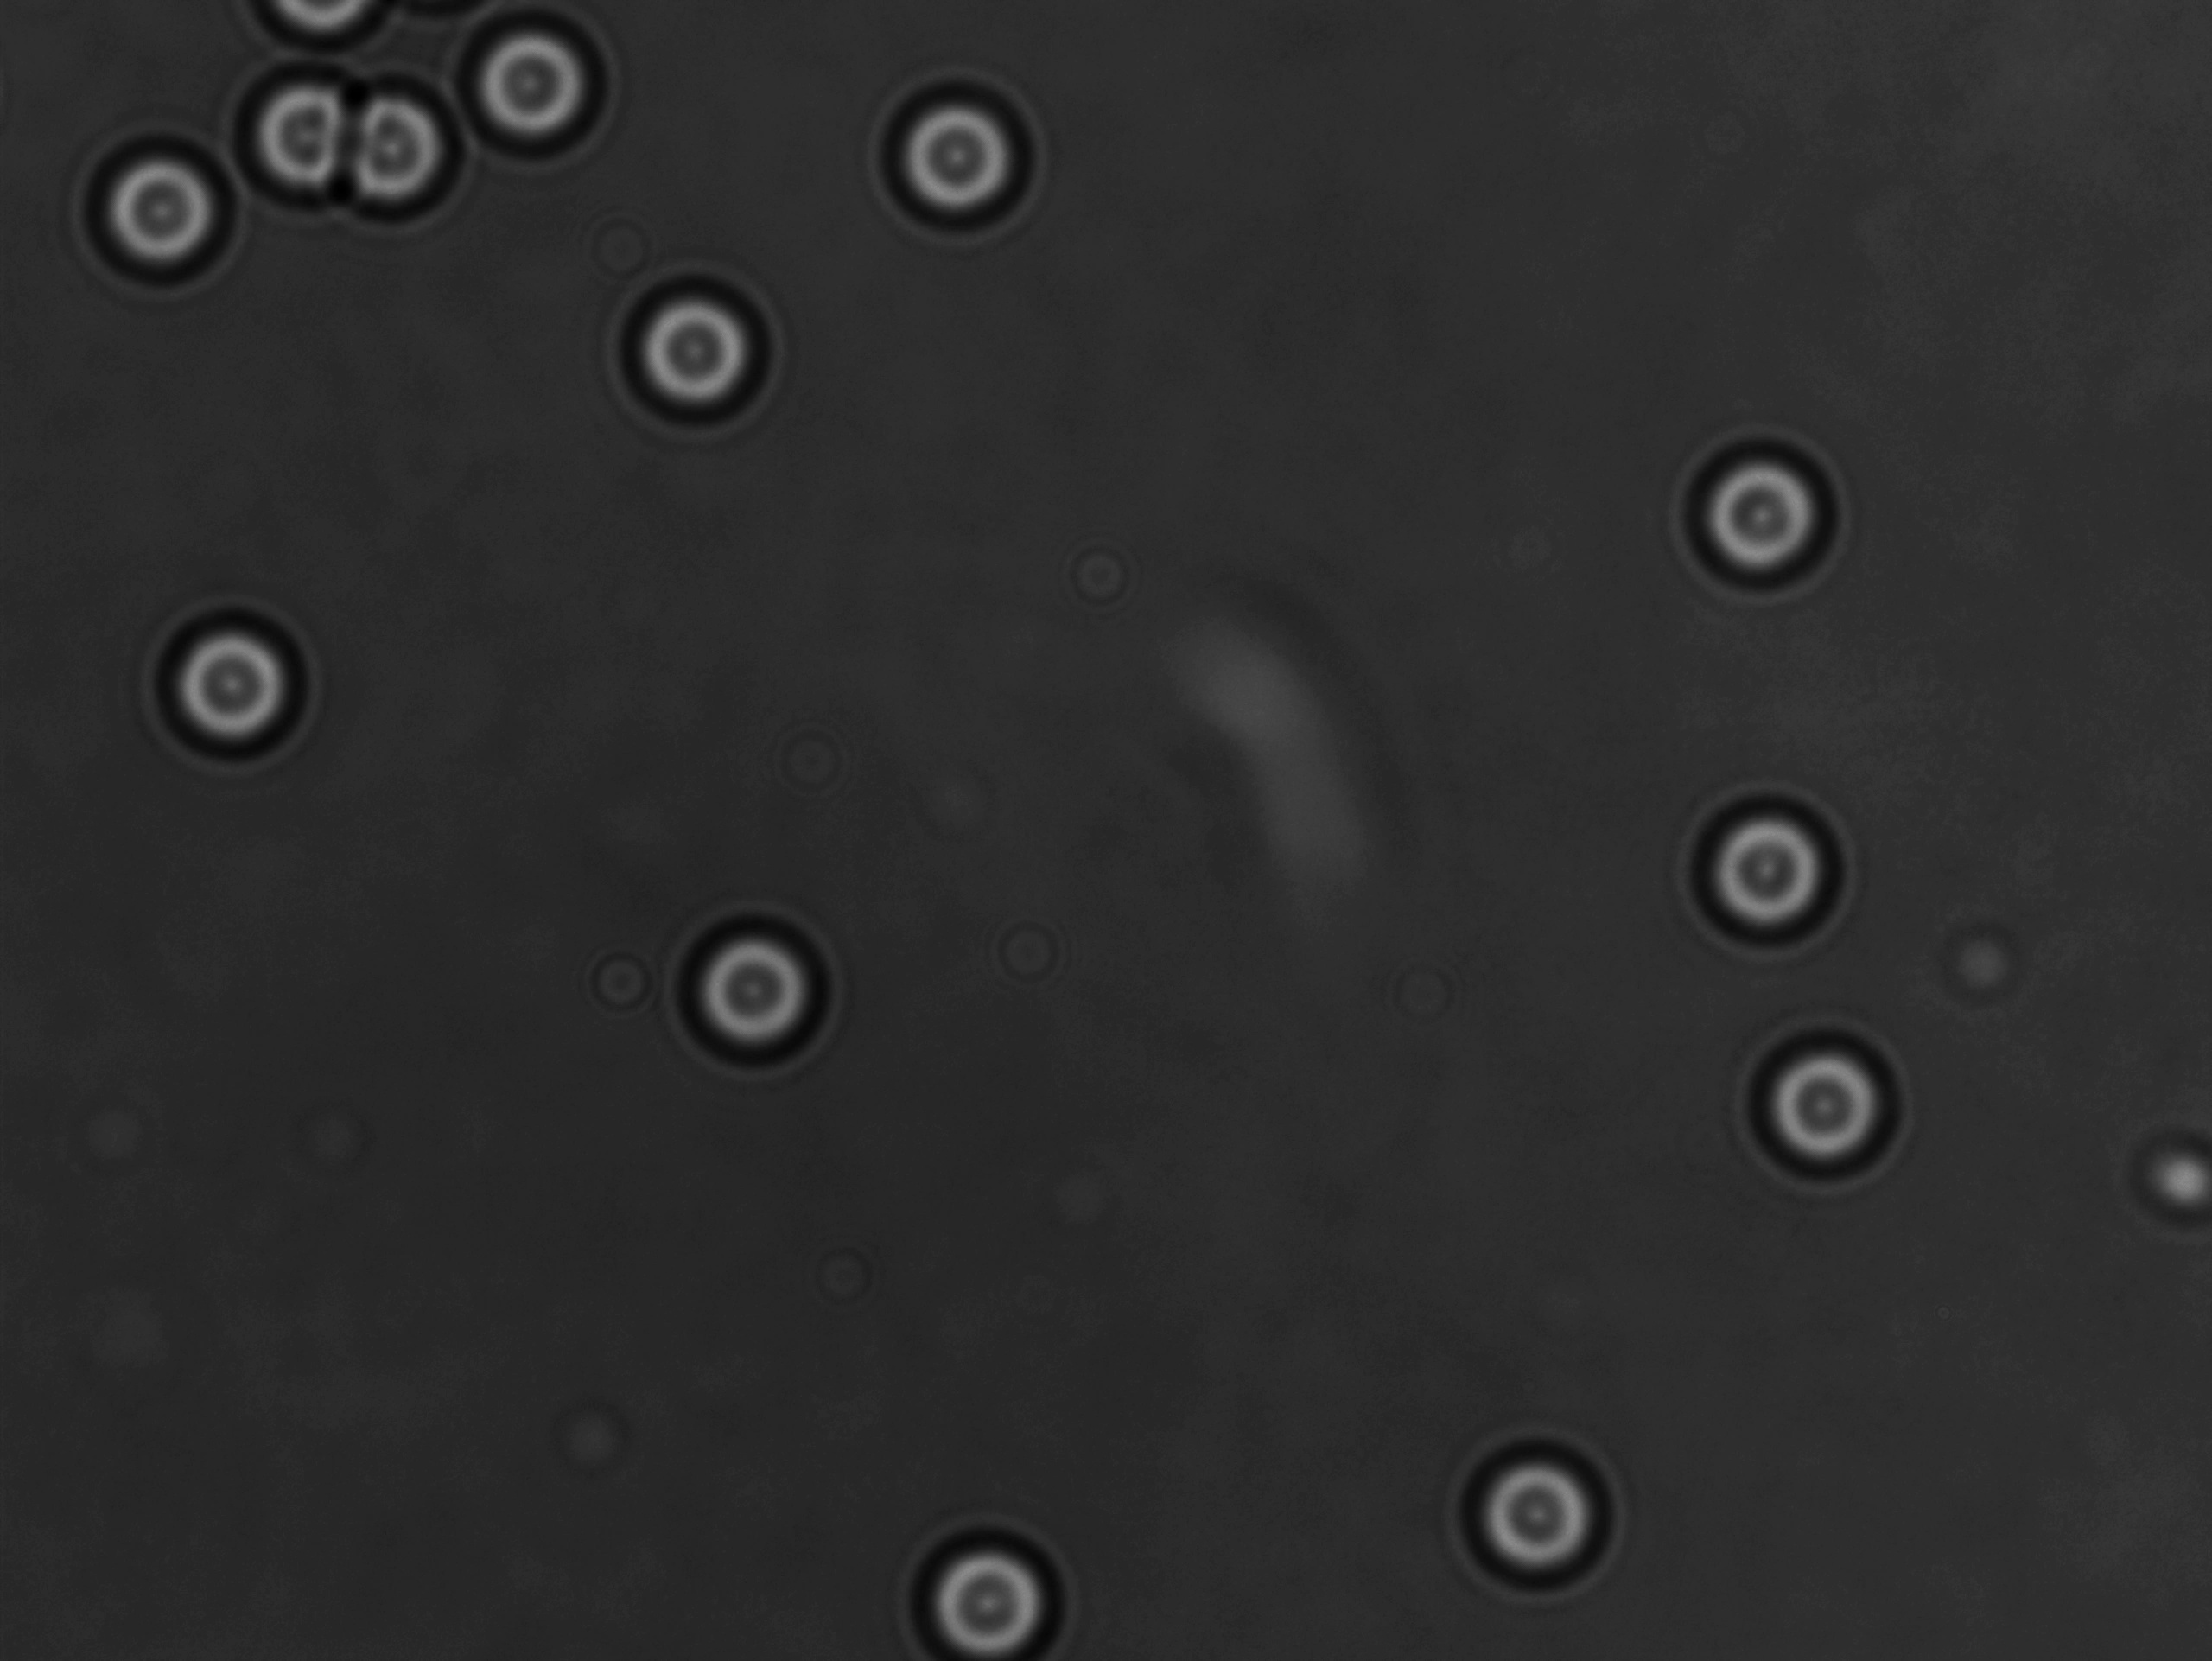depth:20: (654, 878, 846, 1080), (1676, 419, 1872, 614), (1436, 1405, 1621, 1602), (1669, 785, 1847, 967), (1743, 1022, 1915, 1197), (616, 269, 782, 448), (862, 68, 1033, 239), (152, 604, 319, 766), (82, 133, 242, 298), (454, 0, 619, 159), (909, 1506, 1075, 1661)
